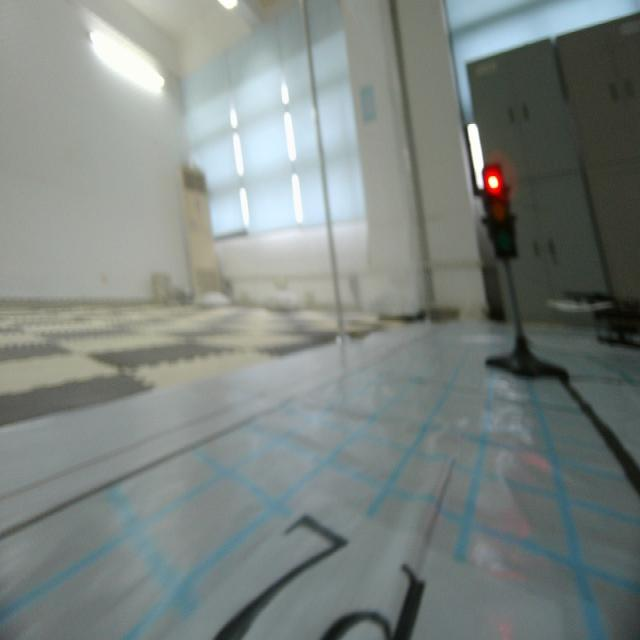red: (479, 160, 523, 269)
